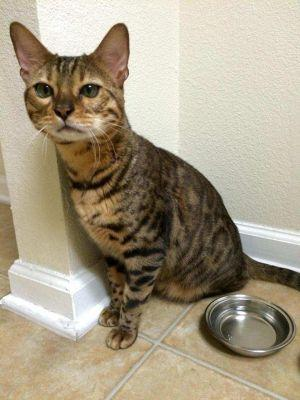bengal: (8, 18, 144, 155)
